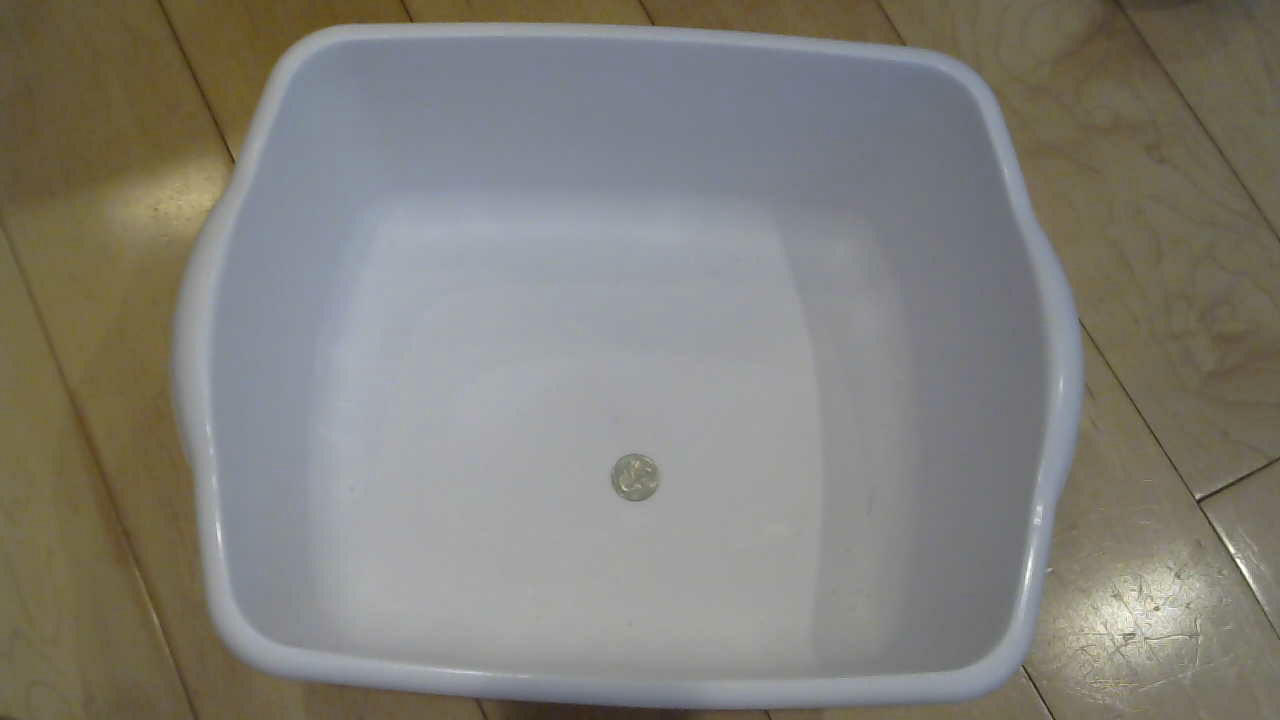coin: (611, 457, 675, 516)
